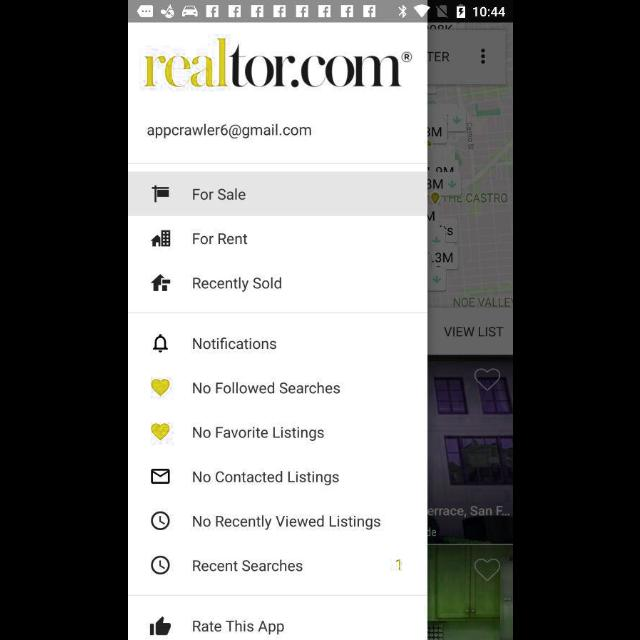icon: (150, 378, 170, 398), (150, 423, 170, 441), (150, 556, 170, 574), (150, 512, 170, 530), (150, 274, 170, 292), (150, 468, 170, 484), (152, 334, 168, 354)
image: (142, 38, 412, 88), (149, 616, 171, 636), (150, 230, 172, 248), (150, 185, 170, 203)
panel: (128, 24, 428, 640)
text: (192, 515, 380, 531), (146, 122, 312, 140), (192, 470, 338, 486), (192, 426, 324, 442), (192, 382, 340, 394), (192, 558, 302, 572), (192, 620, 284, 636), (192, 277, 282, 293), (192, 338, 276, 350), (192, 233, 248, 245), (192, 188, 245, 200), (396, 559, 400, 571)
uppertaskbar: (128, 1, 512, 23)
